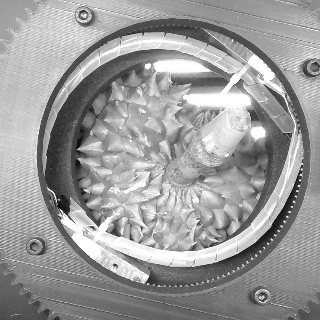base: (161, 158, 202, 192)
end: (226, 105, 252, 133)
